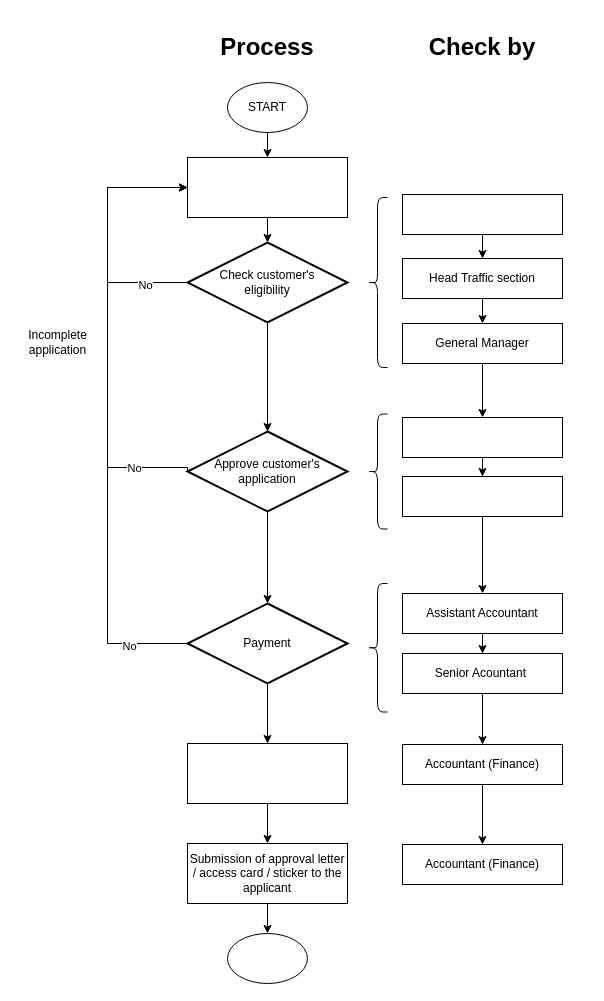
The diagram is 604 pixels wide and 1001 high, and some of its shapes have lost their labels. The shapes that lost their labels are listed below. From the top down, each one's centre as x and y in pixels, then its label:
At point (267, 187): "Application submitted by customer".
At point (482, 214): "Traffic section".
At point (482, 437): "JKR Officer".
At point (482, 496): "JKR Director".
At point (267, 773): "Card registration".
At point (267, 958): "END".
